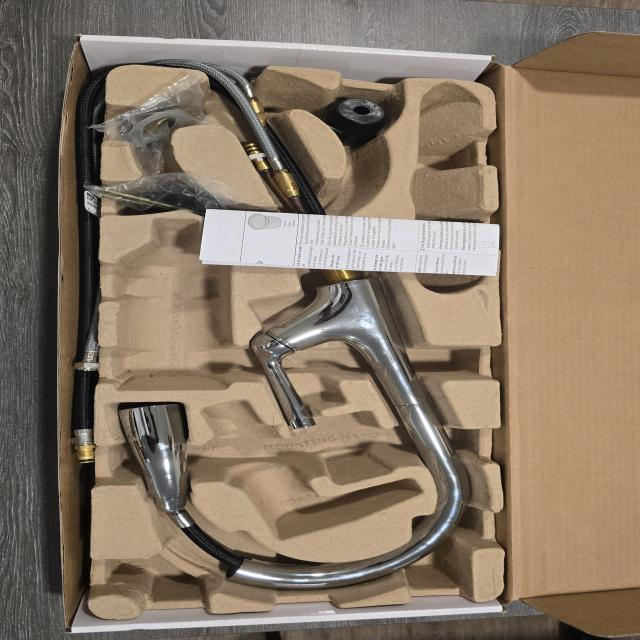1o: (117, 68, 474, 590)
2m: (198, 401, 424, 540)
3m: (114, 216, 230, 393)
4m: (409, 82, 482, 294)
5: (323, 99, 391, 147)
6: (92, 72, 214, 171)
7o: (86, 174, 258, 223)
8: (200, 208, 500, 276)
